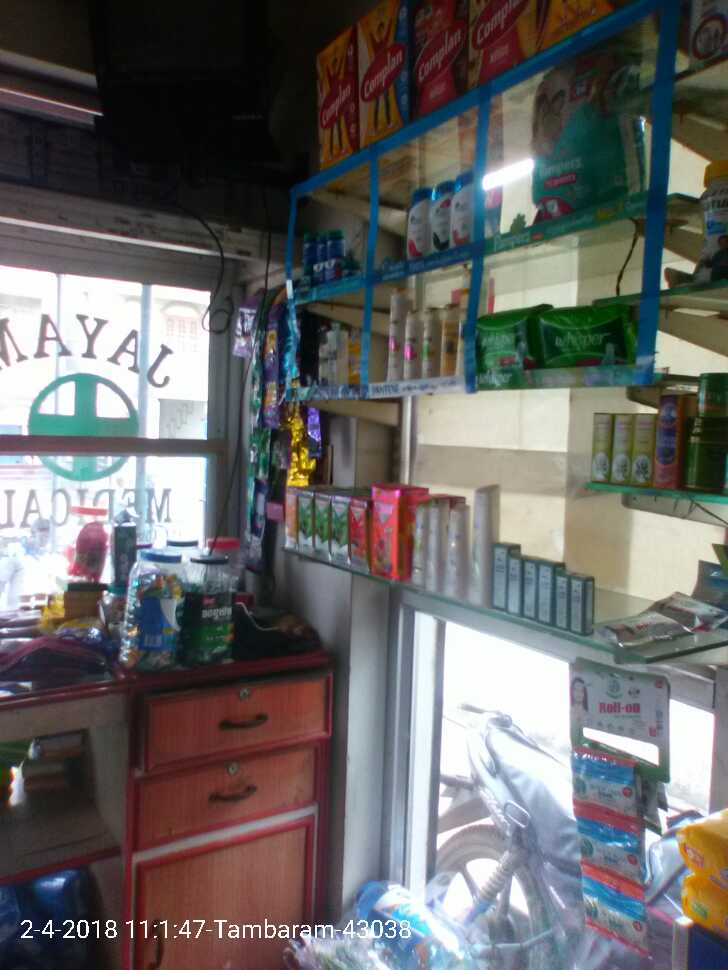vicks: (298, 224, 360, 282)
